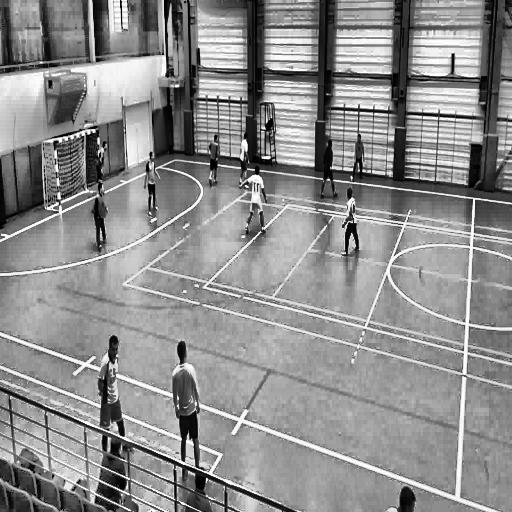ball: (348, 173, 355, 184)
